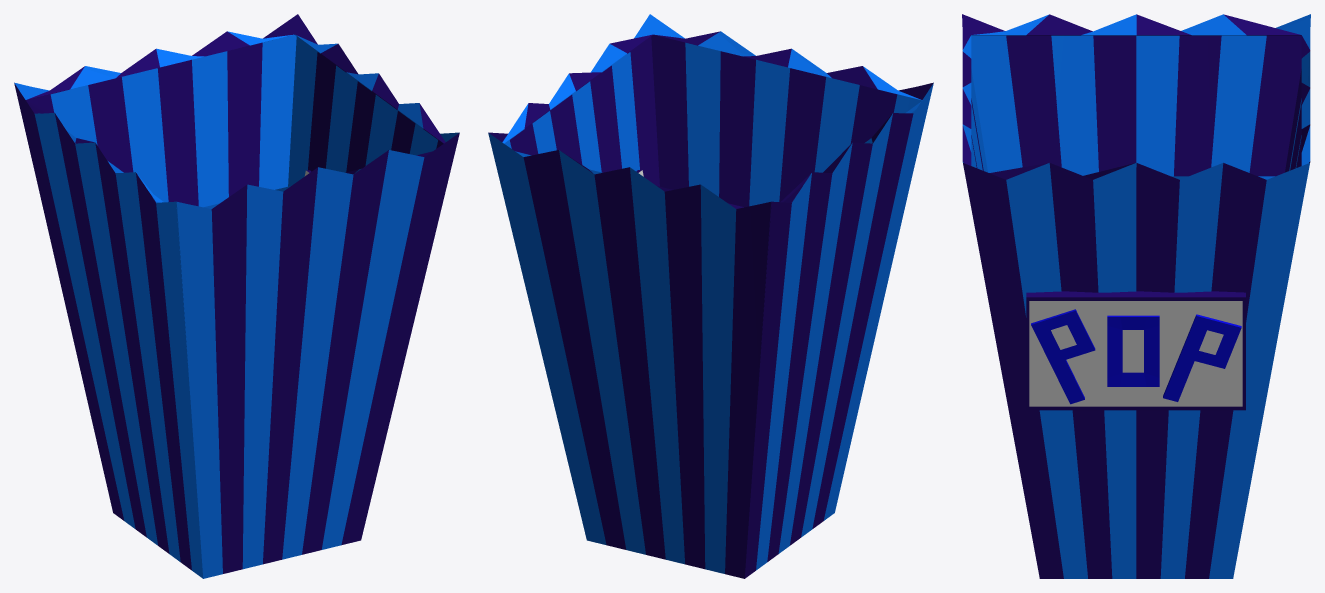
File: popcorn.fbx
3 renders of one model, left to right at view 1: azimuth 30°, elevation 25°; view 2: azimuth 150°, elevation 25°; view 3: azimuth 270°, elevation 25°, orthographic. The views are drawn at different scales.
Parts seen in each view (by area): view 1: Cube.004; view 2: Cube.004; view 3: Cube.004.
Boxes of the visible parts, x1,y1,x2,y2 form: Cube.004: (14,14,459,578); Cube.004: (488,14,933,578); Cube.004: (962,14,1310,578).
Bounding box in the file's own units: 125 × 177 × 124.
